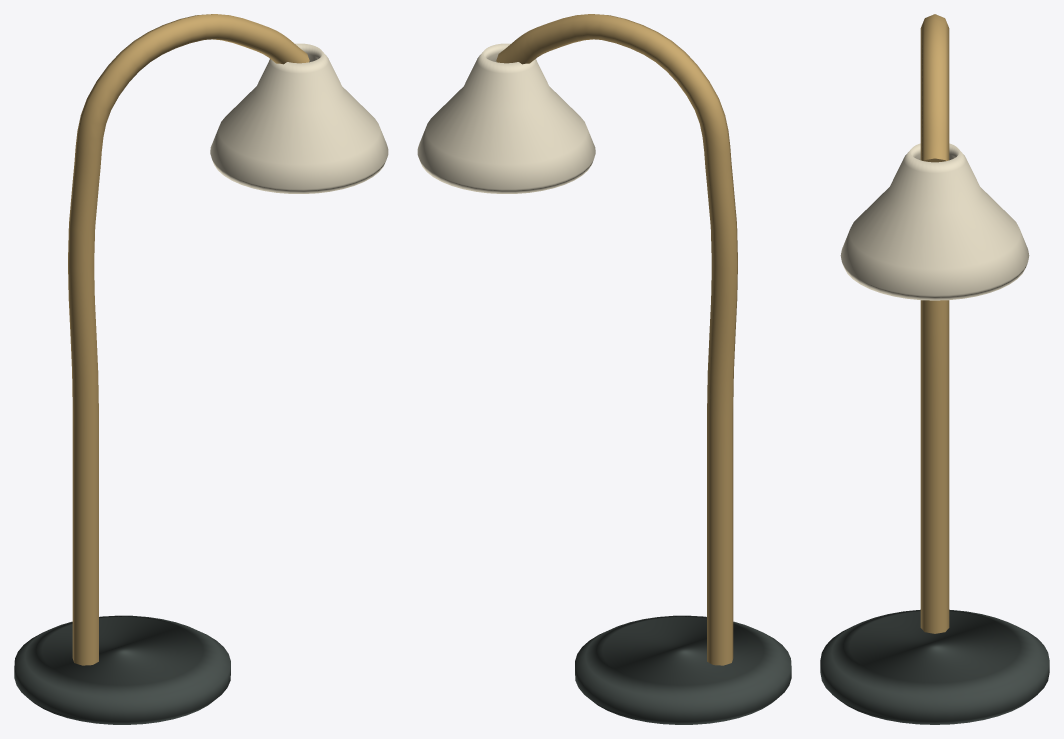
The model's file is floorlamp.arc.glb.
3 renders of one model, left to right at view 1: azimuth 30°, elevation 25°; view 2: azimuth 150°, elevation 25°; view 3: azimuth 270°, elevation 25°, orthographic. The views are drawn at different scales.
Visible parts, largest first — view 1: Weighted spun foot; view 2: Weighted spun foot; view 3: Weighted spun foot.
Part boxes in pixels (left/top/right/bottom): Weighted spun foot: left=14, top=14, right=388, bottom=724; Weighted spun foot: left=417, top=14, right=791, bottom=724; Weighted spun foot: left=820, top=14, right=1049, bottom=724.
Size of the model in its own units: 0.945 by 1.68 by 0.51.
